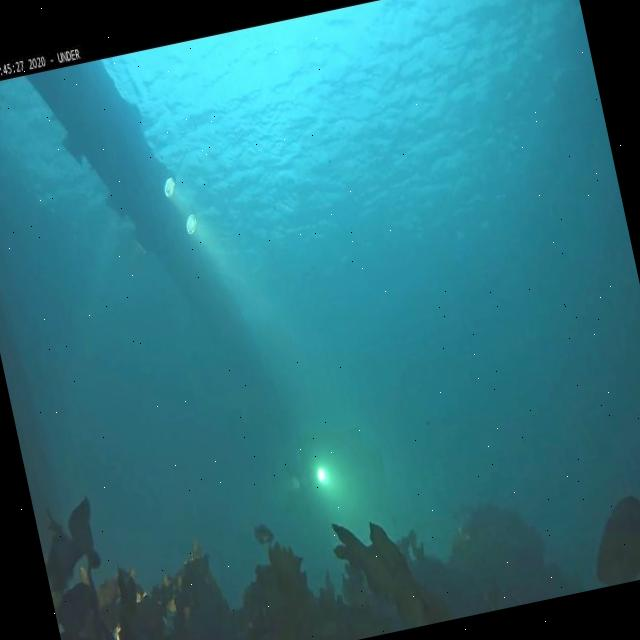fish: (250, 520, 276, 546)
